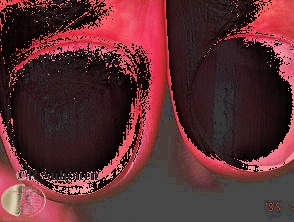Nail_psoriasis: (0, 14, 154, 212), (176, 7, 294, 178)
